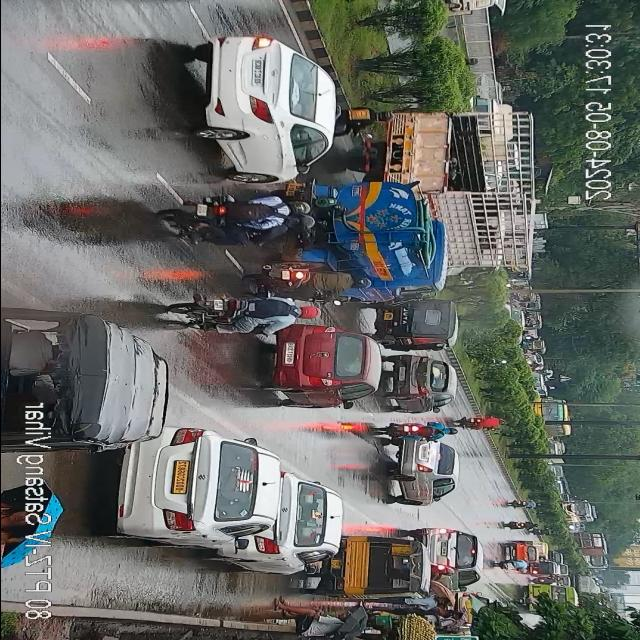2-wheelers: (165, 197, 319, 241), (170, 300, 320, 332), (253, 266, 373, 302), (379, 422, 456, 438), (456, 413, 507, 431), (506, 500, 542, 510), (503, 521, 538, 529), (497, 561, 532, 569), (528, 578, 557, 584), (528, 528, 556, 534)
auto: (1, 309, 170, 449), (335, 534, 430, 598), (380, 300, 456, 350), (518, 542, 548, 556), (526, 563, 554, 575), (524, 314, 542, 329), (526, 342, 544, 352)
bus: (534, 401, 570, 435), (564, 498, 592, 523)
car: (185, 26, 333, 180), (116, 430, 282, 548), (265, 320, 381, 412), (241, 478, 343, 570), (388, 438, 460, 508), (420, 522, 480, 592), (391, 355, 455, 410), (508, 544, 536, 562)
pedestrian: (272, 598, 366, 640), (376, 606, 452, 618), (373, 595, 448, 606)
truck: (371, 104, 536, 281), (303, 190, 449, 296), (574, 534, 605, 558)
